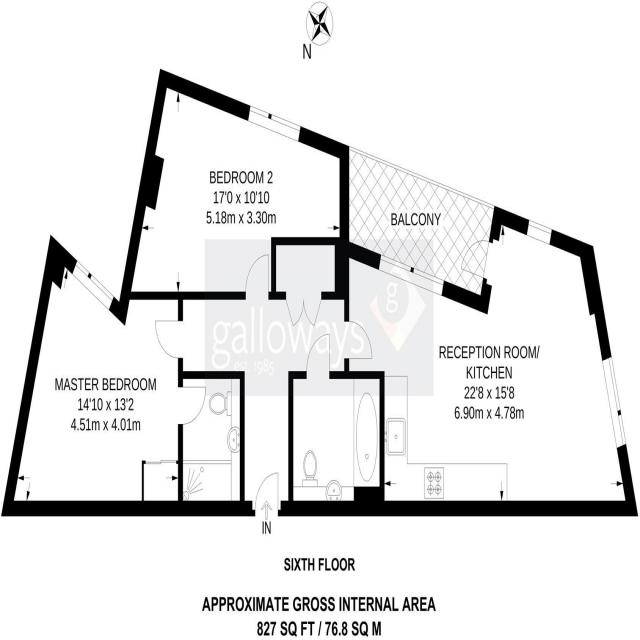DOOR: (456, 234, 493, 284), (252, 467, 281, 517), (304, 328, 332, 379), (178, 383, 208, 429), (153, 316, 183, 362), (244, 250, 270, 300), (344, 318, 374, 361)
ROOM: (339, 207, 639, 516), (1, 235, 214, 517), (120, 68, 350, 301)
WINDOW: (377, 252, 446, 301), (600, 352, 630, 453), (246, 102, 303, 146), (71, 258, 115, 313), (525, 216, 554, 248)
